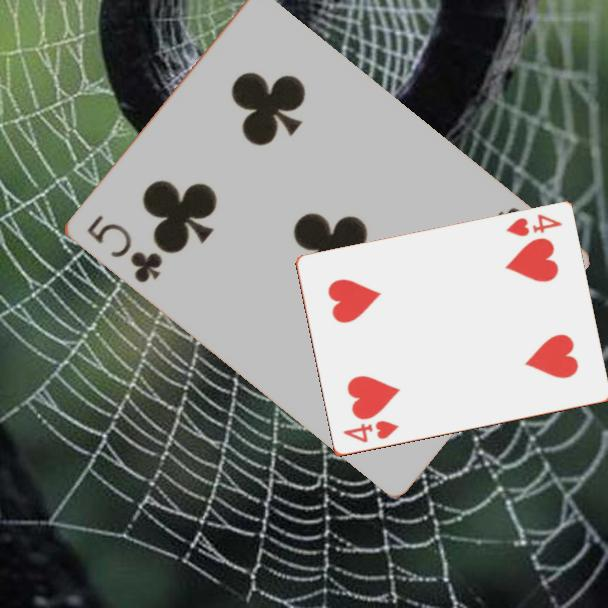c05: (82, 211, 165, 287)
h04: (339, 417, 402, 446), (502, 211, 565, 240)
